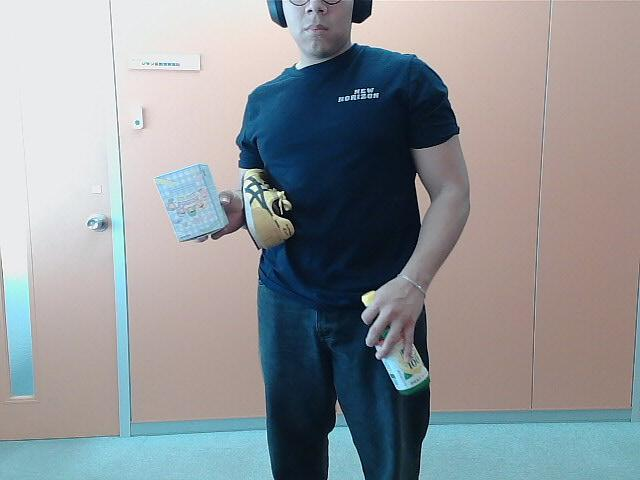Blind_box: (152, 162, 228, 242)
Lemon_sapporo: (356, 289, 432, 395)
Shoes: (242, 165, 296, 248)
